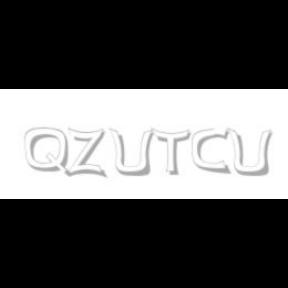C: (192, 128, 228, 174)
Q: (25, 128, 71, 178)
T: (151, 128, 191, 176)
U: (108, 128, 154, 178), (226, 128, 272, 178)
Z: (68, 128, 104, 178)
